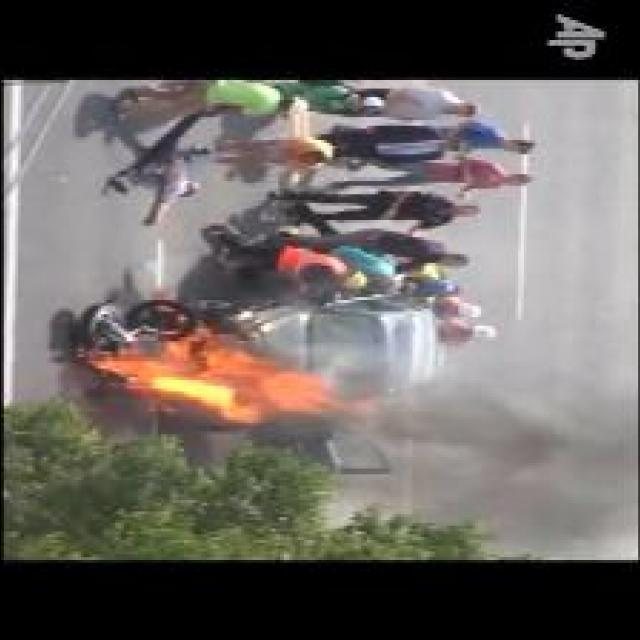Fire: (90, 330, 376, 424)
